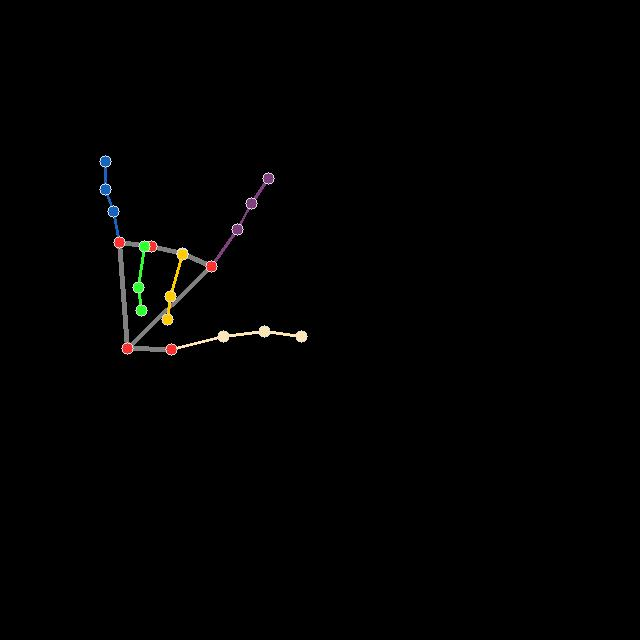spiderman: (97, 154, 308, 355)
